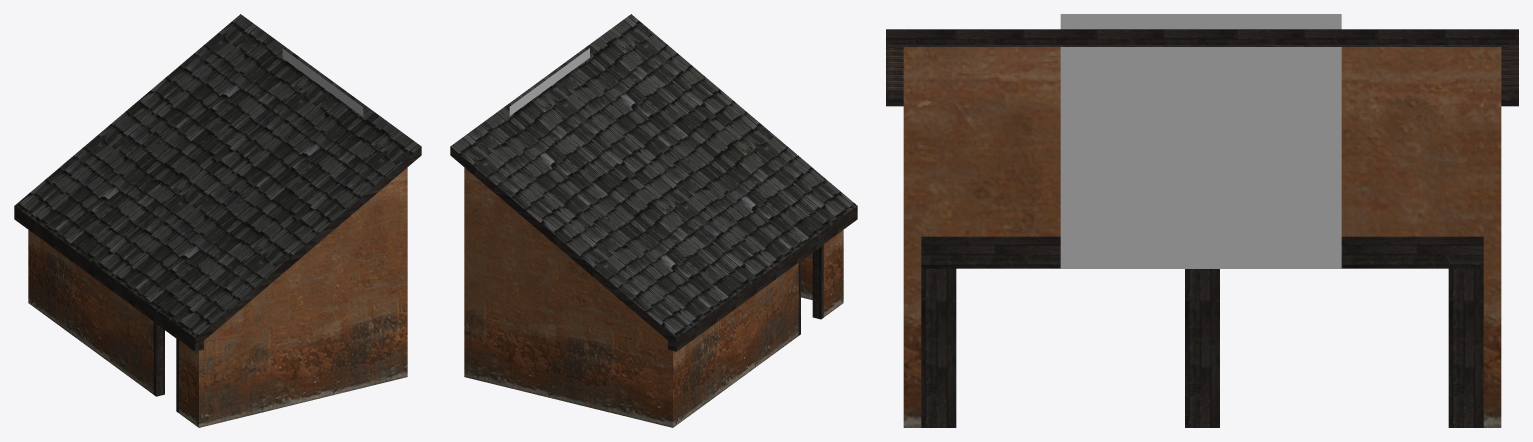
Rendered from Stable.dae.
3 renders of one model, left to right at view 1: azimuth 30°, elevation 25°; view 2: azimuth 150°, elevation 25°; view 3: azimuth 270°, elevation 25°, orthographic. The views are drawn at different scales.
Parts seen in each view (by area): view 1: BSP.006; view 2: BSP.006; view 3: BSP.006.
Part boxes in pixels (x1,y1,x2,y2): BSP.006: [14, 14, 421, 427]; BSP.006: [450, 14, 857, 427]; BSP.006: [886, 14, 1518, 427].
Size of the model in its own units: 7.8 by 10.8 by 7.8.
